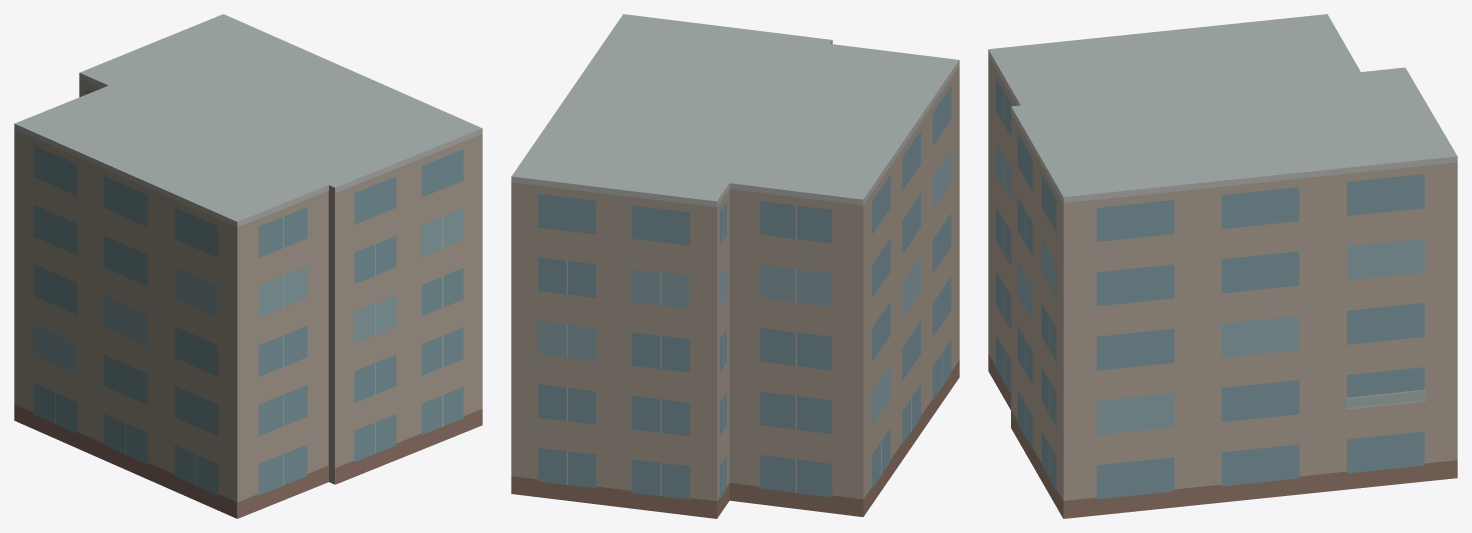
File: survey-upis-32712803.glb
The picture shows the model from 3 angles, left to right: view 1: azimuth 30°, elevation 25°; view 2: azimuth 150°, elevation 25°; view 3: azimuth 270°, elevation 25°; orthographic projection. The views are drawn at different scales.
Parts seen in each view (by area): view 1: survey-upis-32712803.tmp; view 2: survey-upis-32712803.tmp; view 3: survey-upis-32712803.tmp.
Part boxes in pixels (bbox=[...]): survey-upis-32712803.tmp: bbox=[14, 14, 482, 518]; survey-upis-32712803.tmp: bbox=[511, 14, 959, 518]; survey-upis-32712803.tmp: bbox=[988, 14, 1457, 518].
Size of the model in its own units: 16.13 by 13.2 by 17.46.
